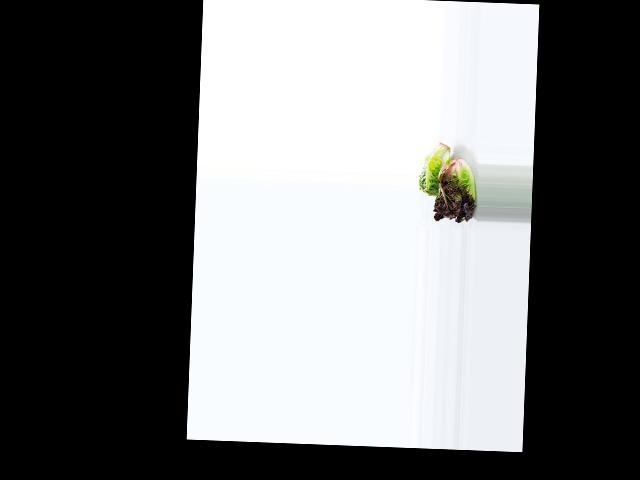lettuce: (417, 139, 452, 197)
